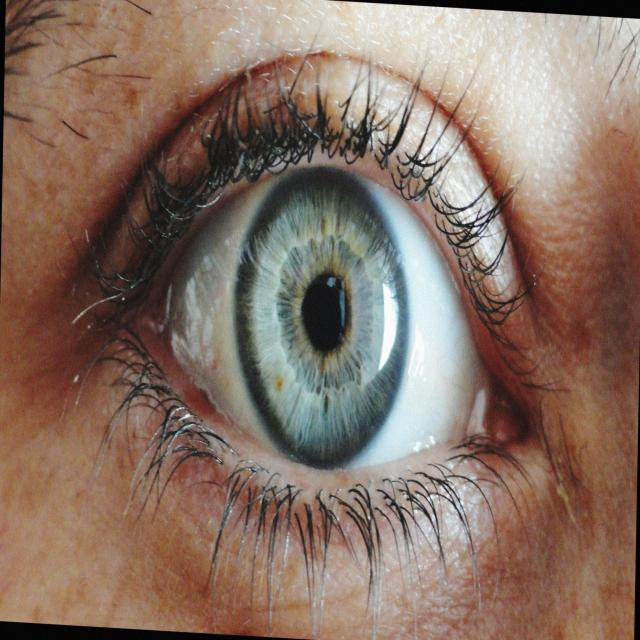Healthy-Eye: (109, 97, 528, 577)
